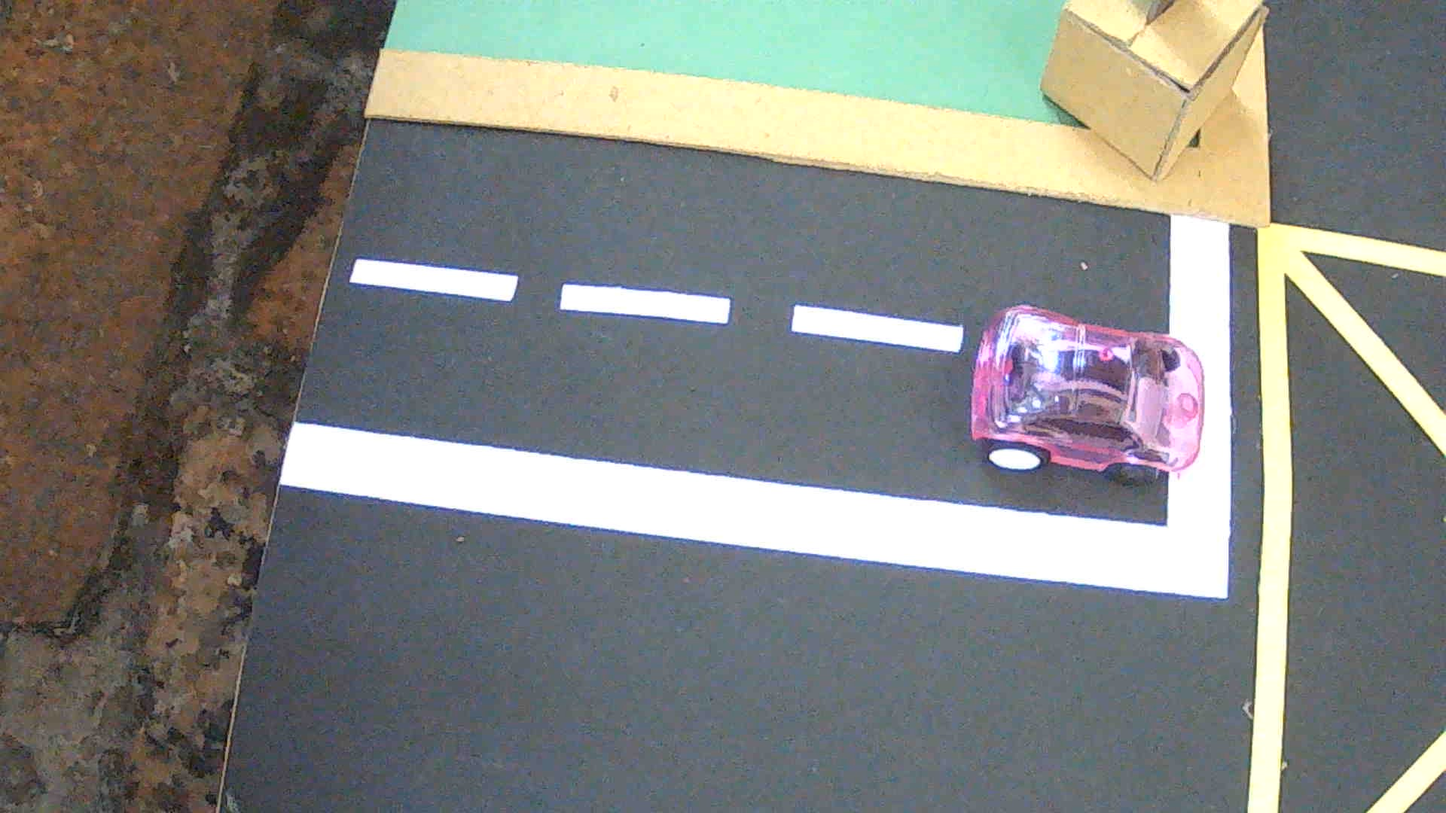Mobil ungu: (971, 305, 1205, 483)
